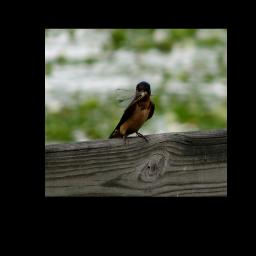Swallow: (108, 81, 155, 148)
